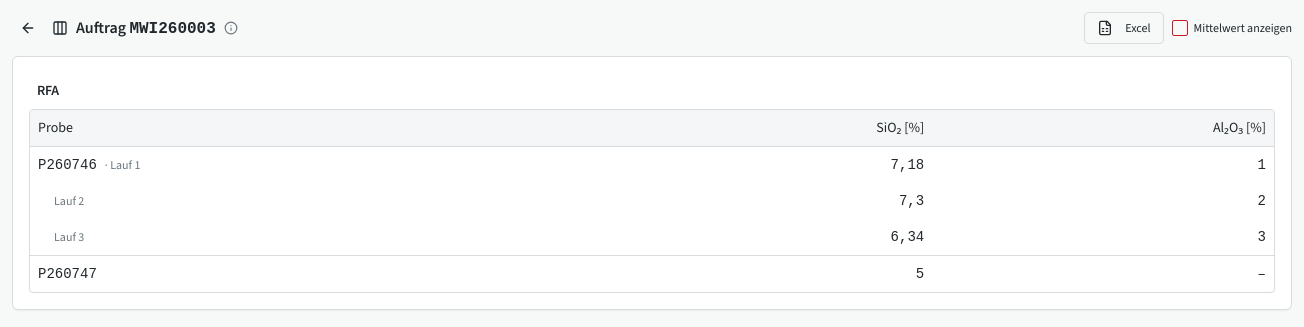
Ergebnisübersicht: Darstellung › Schalter 'Mittelwert anzeigen' ersetzt die Unterzeilen durch eine Zeile mit n=3
Click the checkbox named "Mittelwert anzeigen" at (1180, 28), box [1172,20,1188,36]
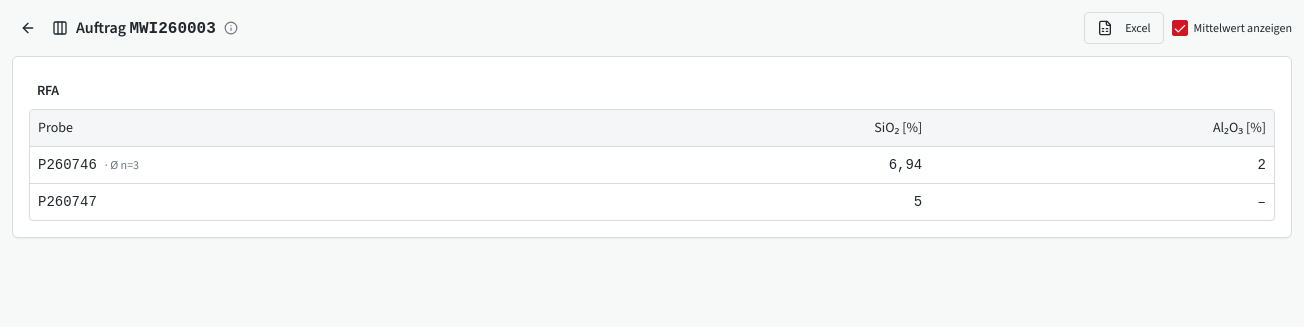
Result: the text "· Ø n=3" is shown at [105,157,139,173]
Result: the text "Lauf 2" is gone
Result: the text "6,94" is shown at [612,146,930,184]
